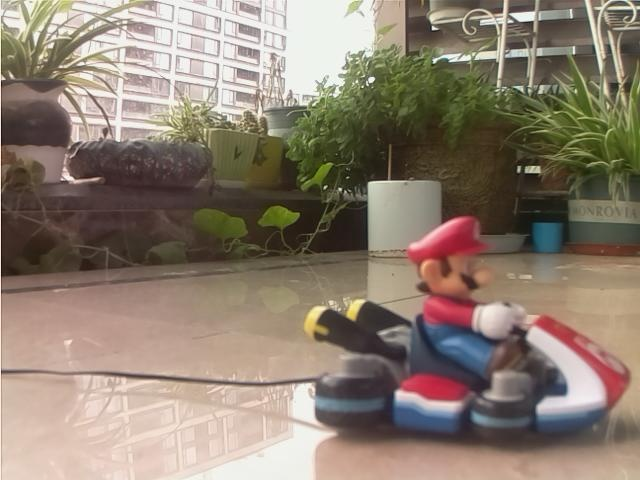mario: (300, 200, 634, 461)
